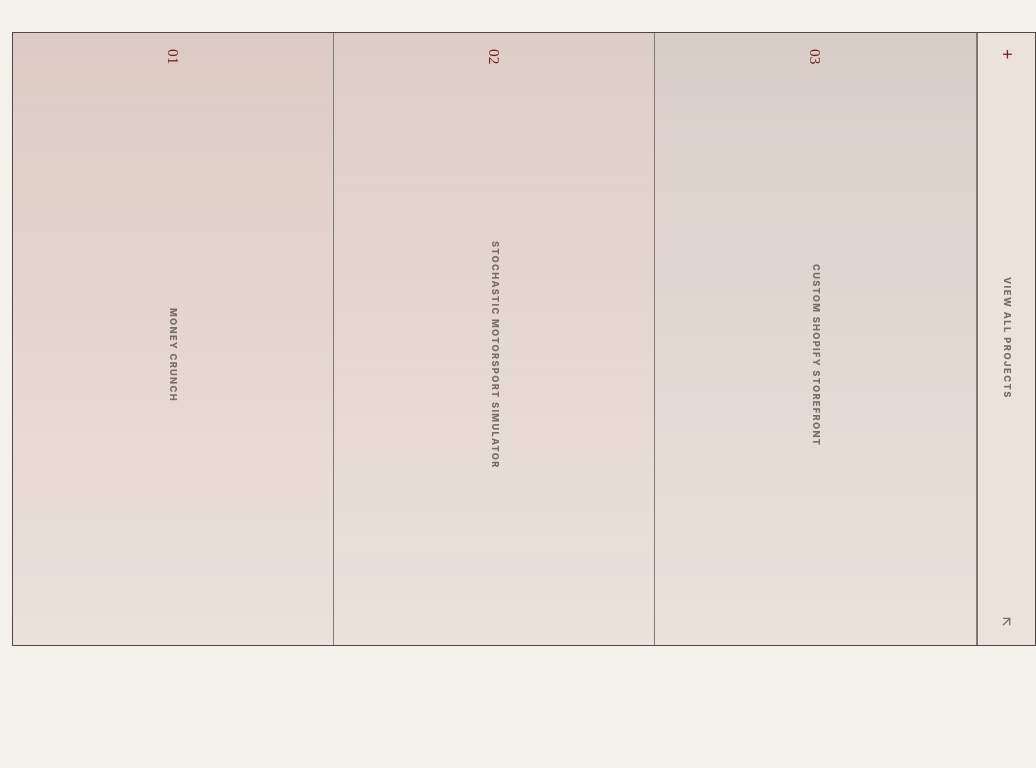
ProjectSpineGallery › renders expanded preview media and stack content
Hover over the element "02 Stochastic Motorsport Simulator".
mouse_move(495, 339)  # box [334,33,655,645]
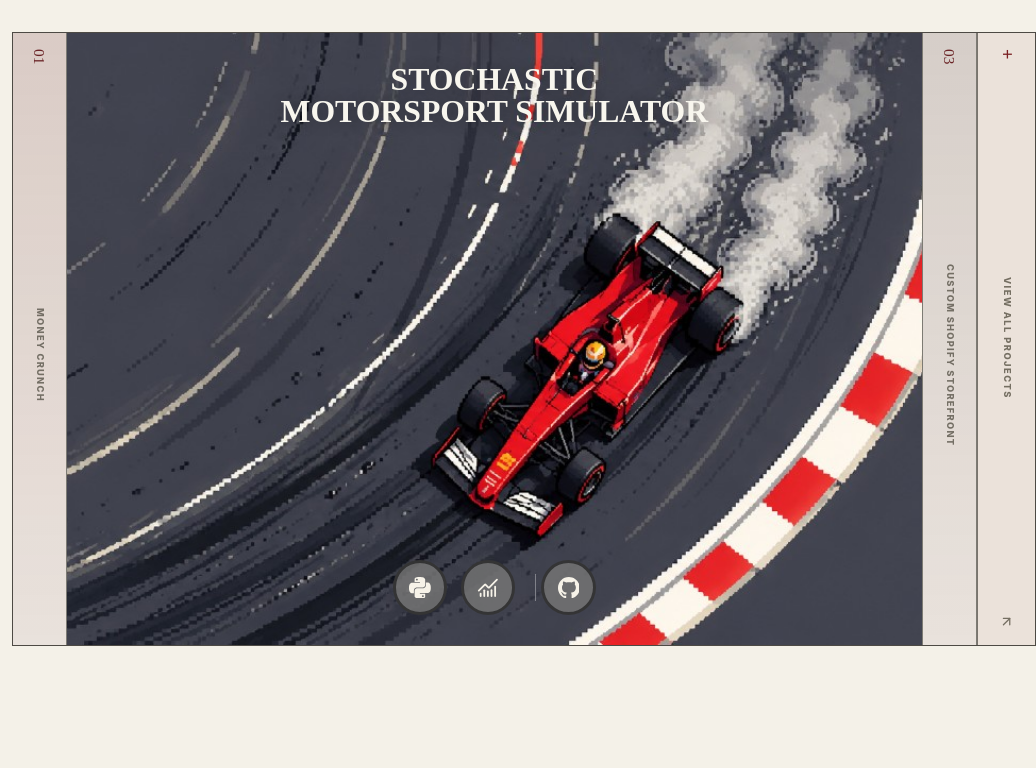
Expected: the picture named "Stochastic Motorsport Simulator project preview" is shown
Expected: the list named "Stochastic Motorsport Simulator technology stack" is shown, [393,560,596,615]
